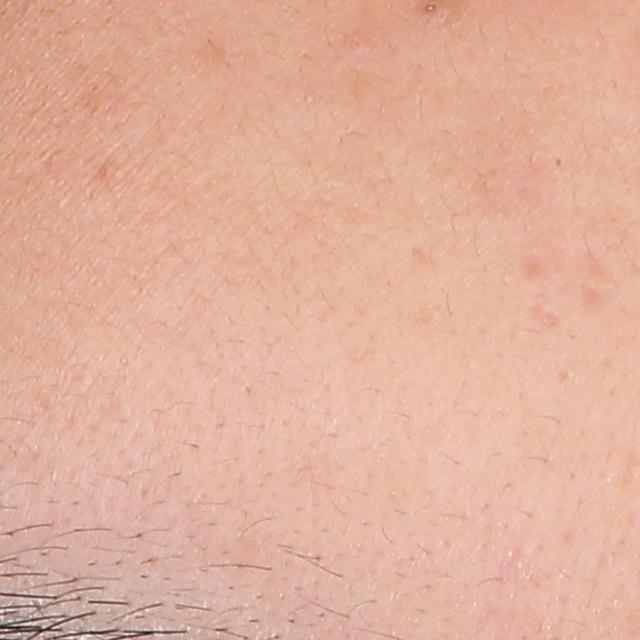atrophic_scar: (526, 304, 566, 332), (580, 281, 616, 311), (519, 256, 549, 279)
comedo: (550, 151, 570, 173)
